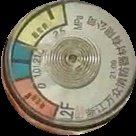green: (8, 39, 36, 81)
needle: (16, 44, 46, 53)
red: (13, 80, 61, 121)
yellow: (18, 2, 66, 48)
